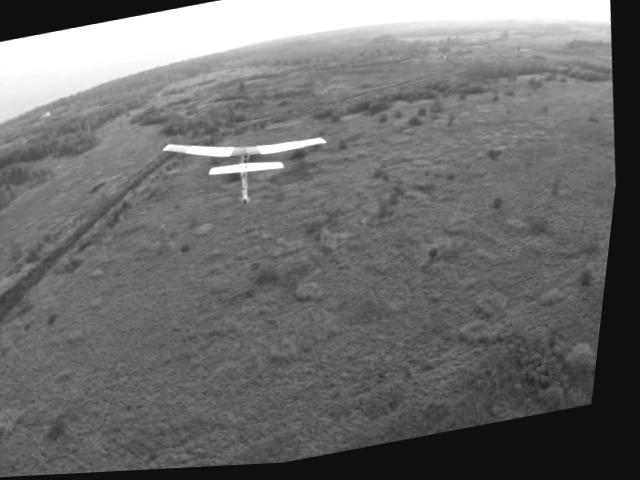hedef: (153, 106, 352, 233)
